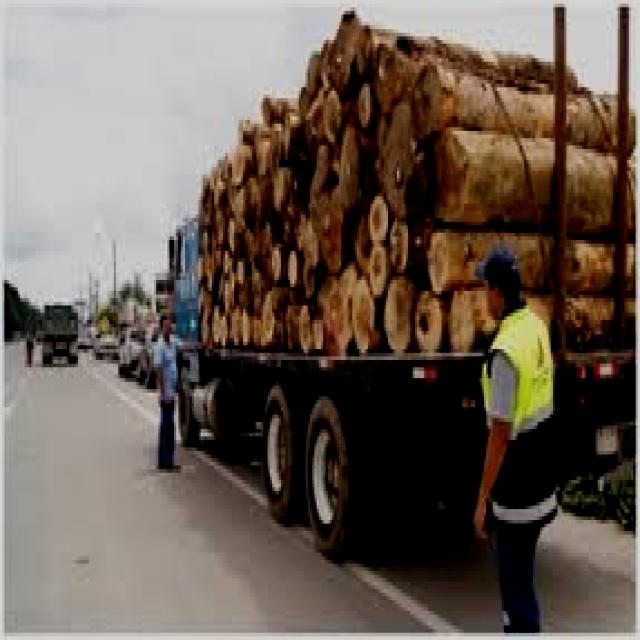TRUCK: (172, 7, 567, 557), (42, 302, 82, 372)
